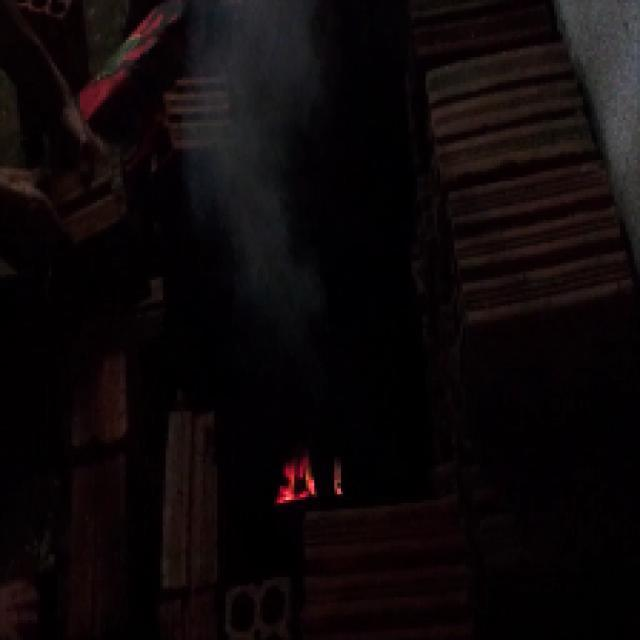Fire: (280, 456, 344, 501)
Smoke: (199, 123, 311, 294), (223, 0, 303, 94)
